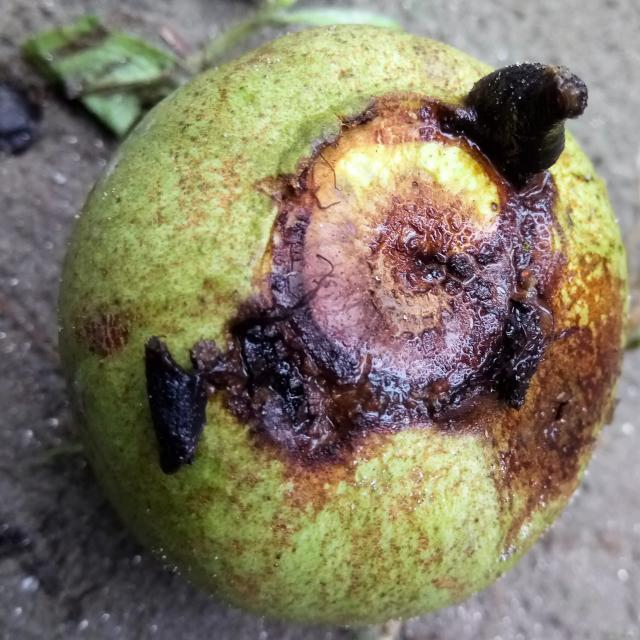Styler and Root: (190, 101, 625, 549)
